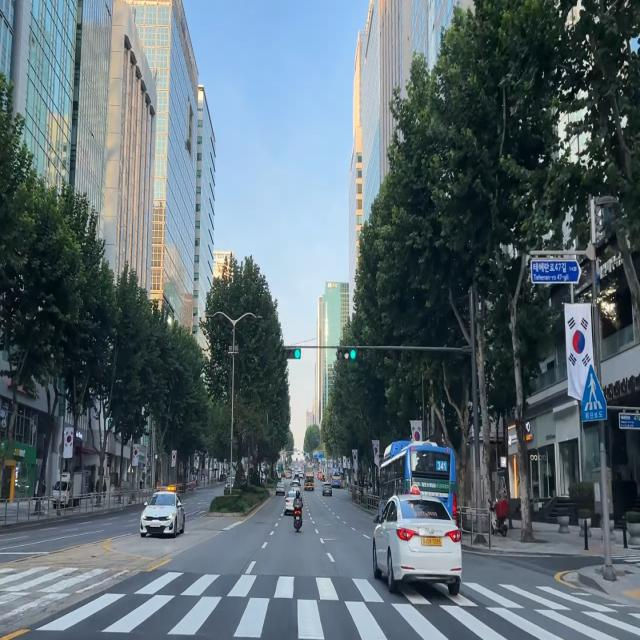Green Light: (294, 348, 301, 359), (350, 350, 356, 360)
